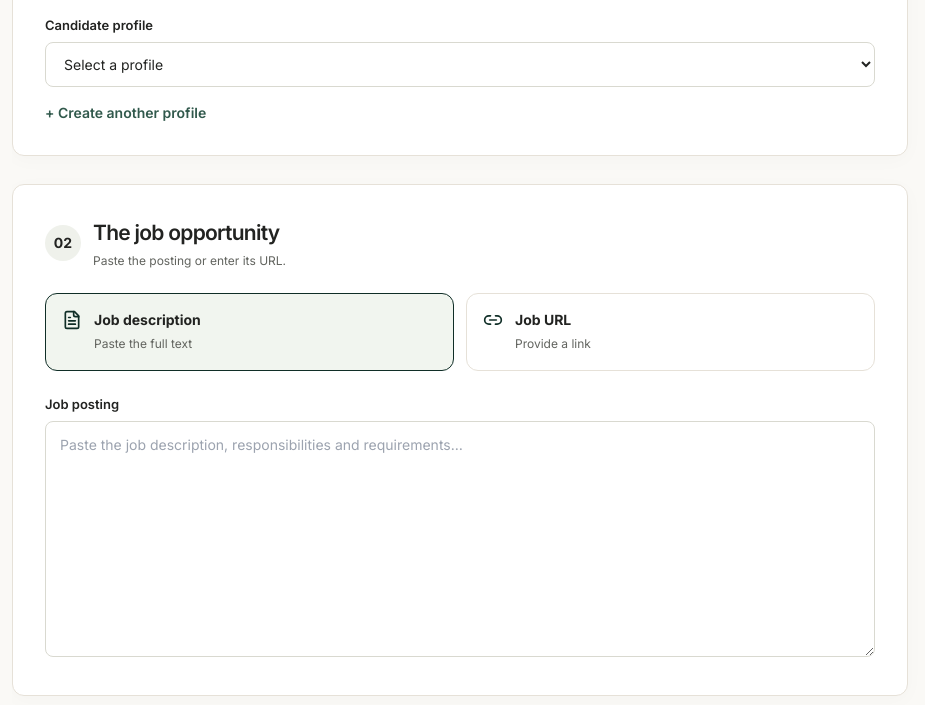
Test: job submission through the injected controller › shows controller validation errors without submitting invalid input
This screenshot has width=925, height=705.
(page scrolled)
Replace the text in the text box labelled "Job posting" with "  ab  " at [460, 539], box [45,421,875,657]
(page scrolled)
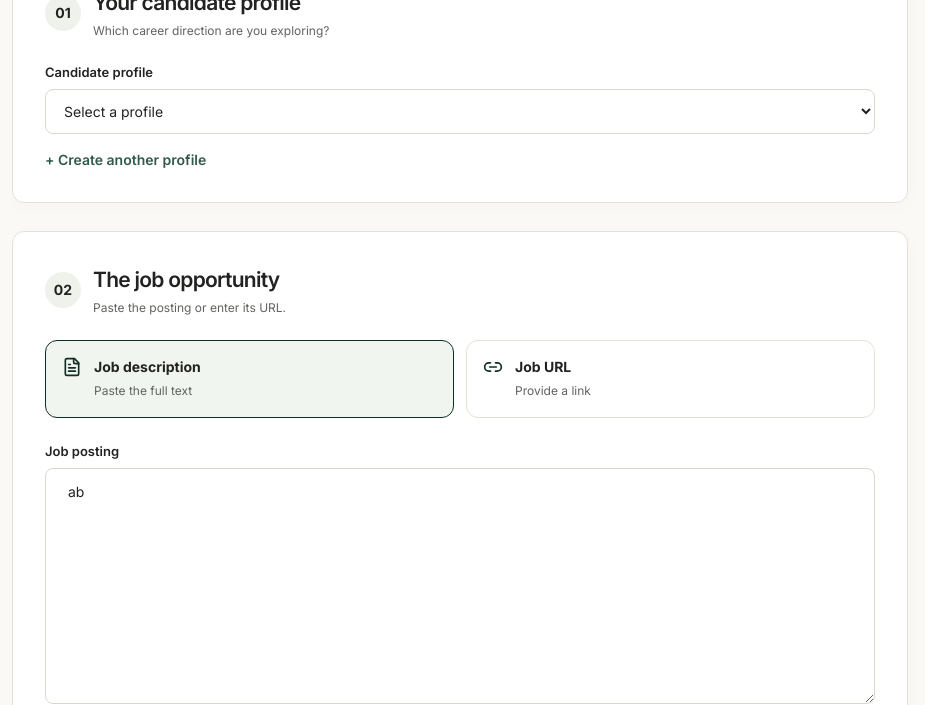
Submit the form named "Analyse this job"
(page scrolled)
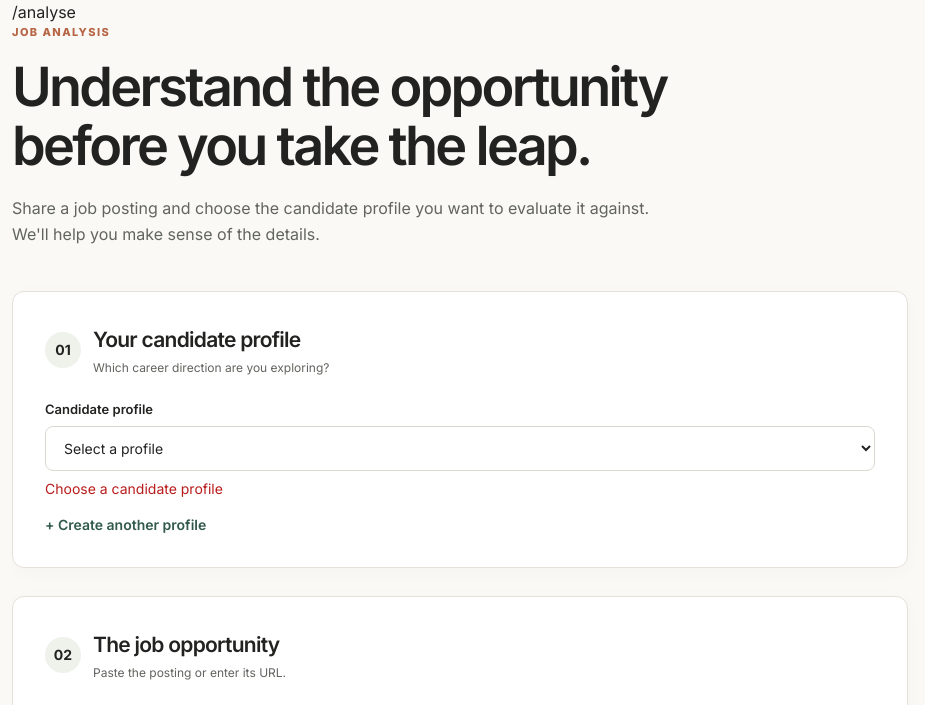
Expected: the text named "Current route" reads "/analyse", [12,2,76,22]
Expected: the text "Choose a candidate profile" is shown, [45,480,223,497]
